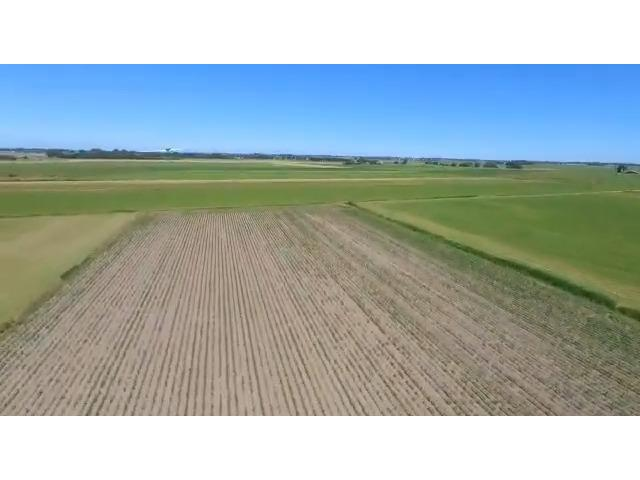Anti-Drone: (130, 128, 212, 172)
